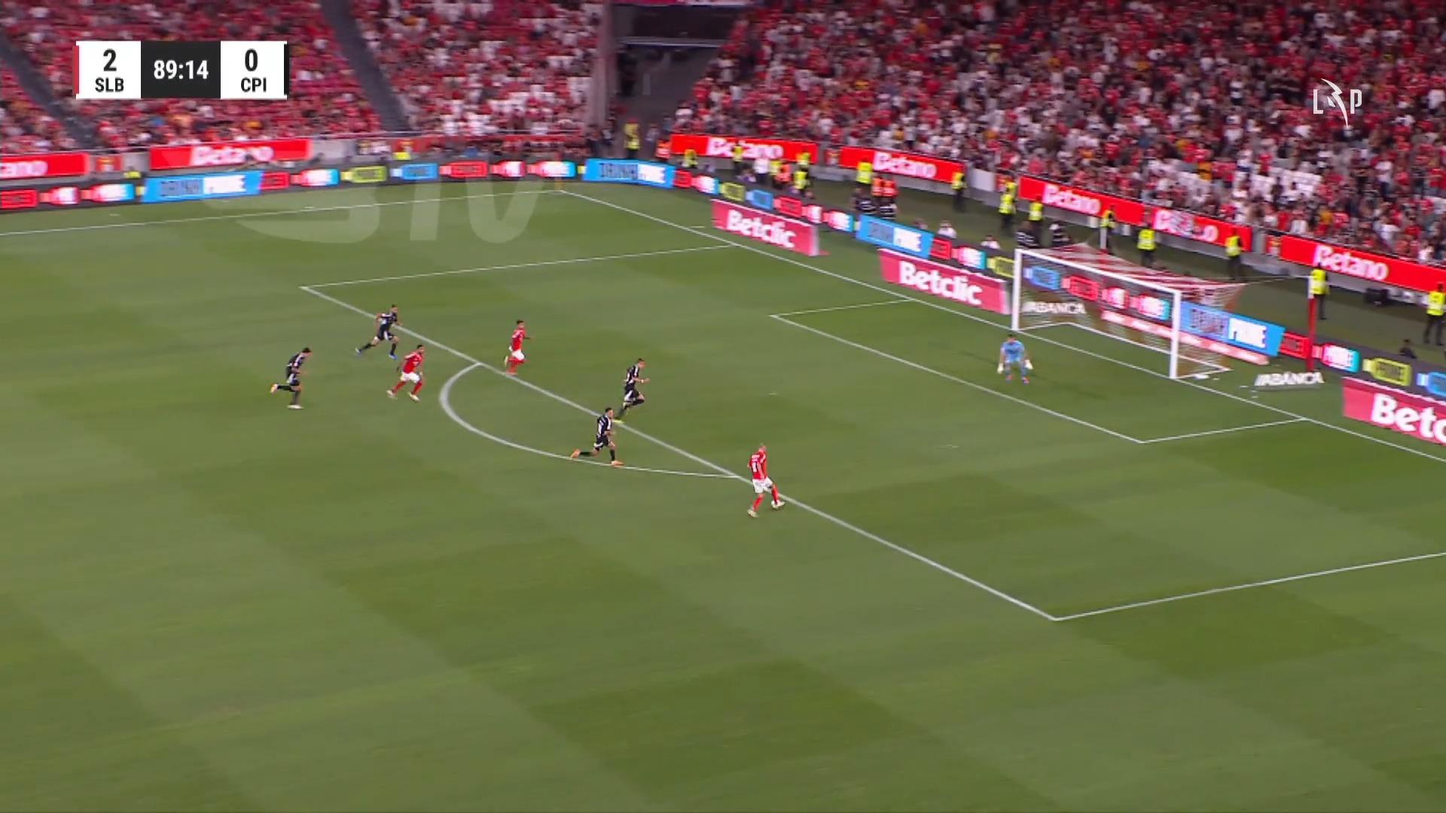ball: (770, 497, 785, 513)
goalkeeper: (996, 331, 1033, 384)
player: (568, 406, 624, 467), (746, 443, 785, 518), (268, 344, 312, 410), (354, 303, 404, 360), (386, 343, 426, 401), (615, 357, 649, 419), (502, 318, 532, 376)
